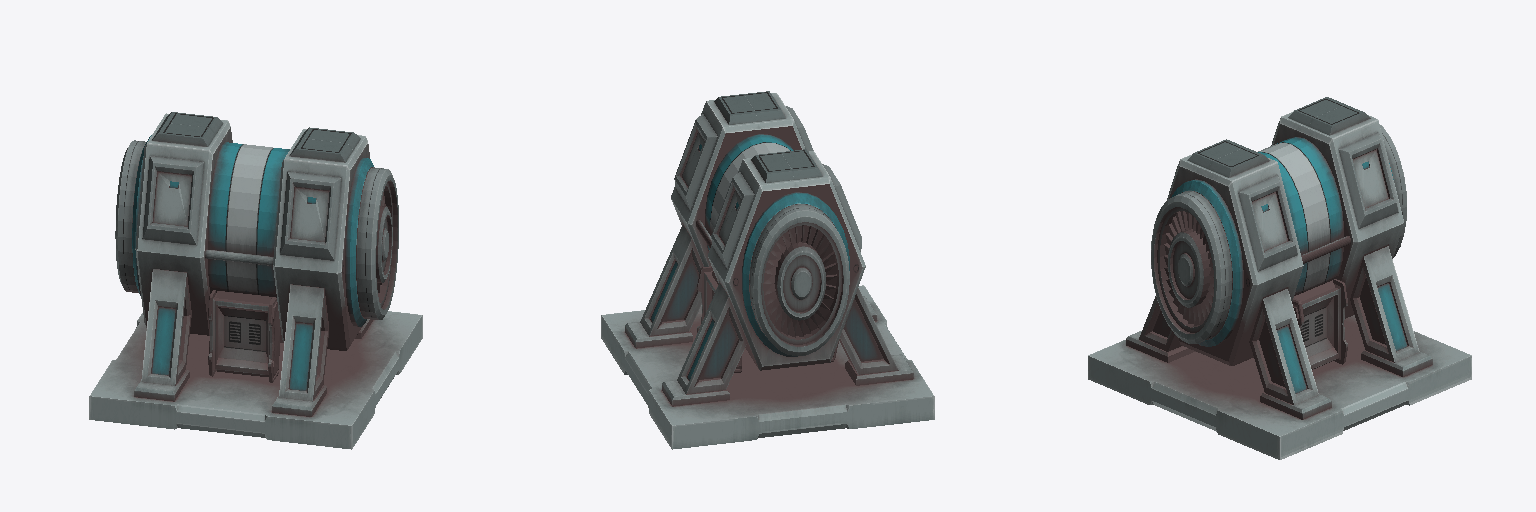
The picture shows the model from 3 angles: view 1: azimuth 30°, elevation 25°; view 2: azimuth 150°, elevation 25°; view 3: azimuth 270°, elevation 25°; orthographic projection.
Visible parts, largest first — view 1: Reactor_Sci_Fi_TX_RT_Sci_Fi_0; view 2: Reactor_Sci_Fi_TX_RT_Sci_Fi_0; view 3: Reactor_Sci_Fi_TX_RT_Sci_Fi_0.
Part boxes in pixels (x1,y1,x2,y2): Reactor_Sci_Fi_TX_RT_Sci_Fi_0: (89,112,422,449); Reactor_Sci_Fi_TX_RT_Sci_Fi_0: (601,91,934,449); Reactor_Sci_Fi_TX_RT_Sci_Fi_0: (1088,97,1471,459).
Size of the model in its own units: 1.41 by 1 by 1.41.
Materials: 1 (1 with a texture image).